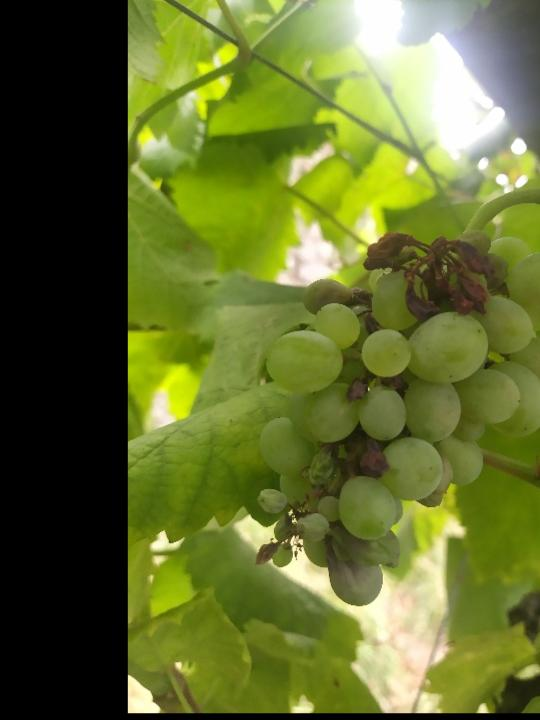grape: (252, 226, 540, 611)
